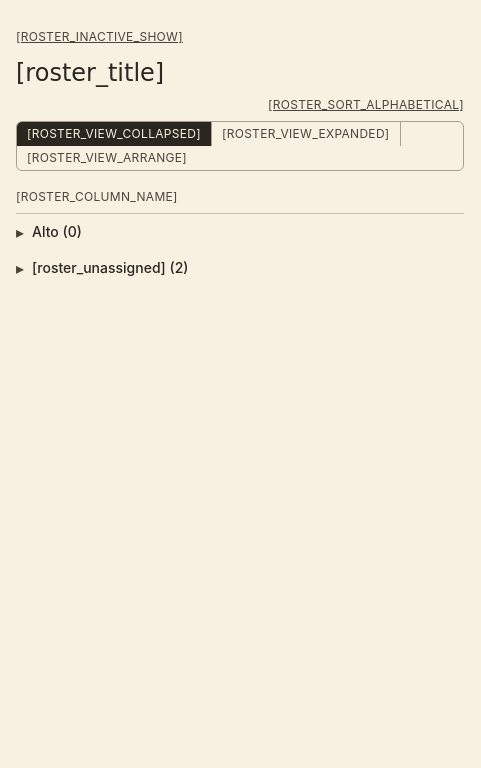
Test: #1003 Invite and Resend send the invite by email › a member with a profile email but no person email: nothing is sent, and the no-email message shows
The image size is (481, 768).
Click the button "▸ [roster_unassigned] (2)". click: (110, 268)
box: [16,250,464,286]
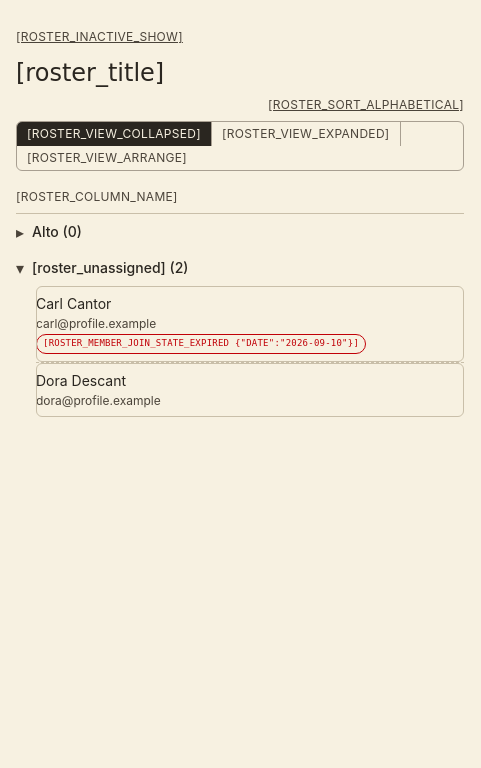
Click the button without text next to "dora@profile.example". click: (250, 390)
box: [36,362,464,416]
(page scrolled)
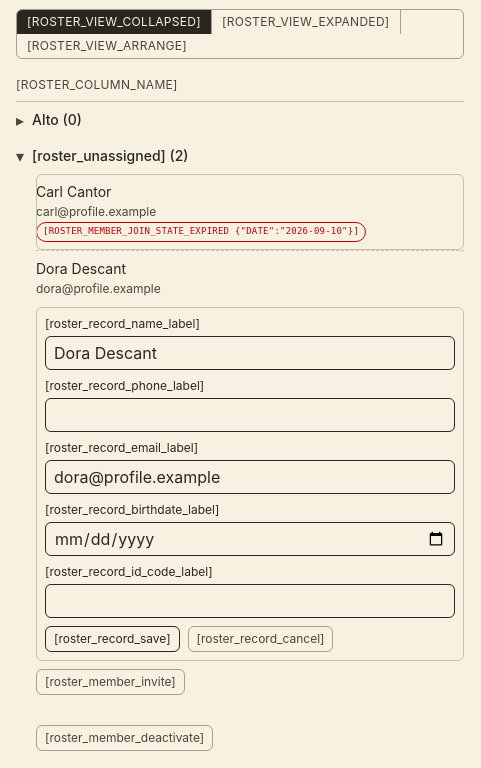
Click the button "[roster_member_invite]". click: (110, 682)
box: [36,668,185,694]
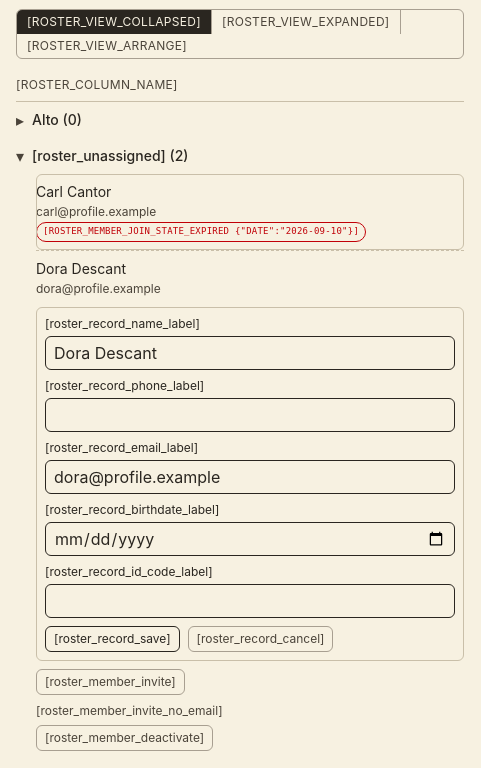
Expected: the message "[roster_member_invite_no_email]" is shown, [36,702,222,718]
